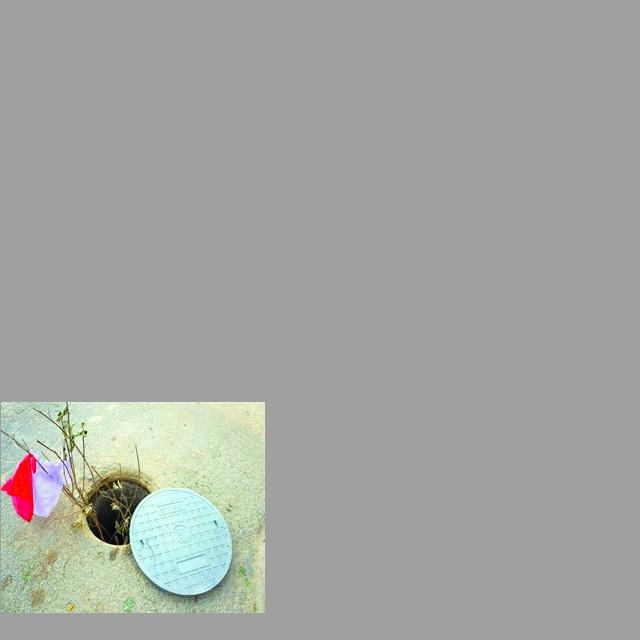uncovered: (67, 464, 235, 595)
